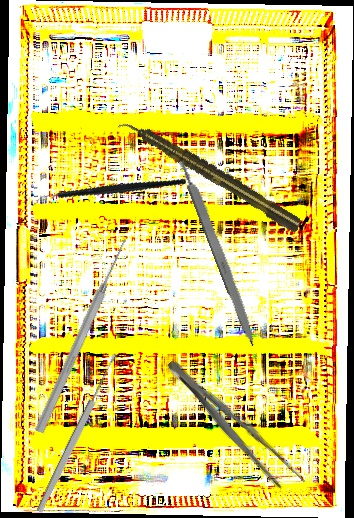Chopper: (31, 144, 187, 242)
Dressing Forceps: (159, 352, 309, 499)
Handpiece: (116, 112, 305, 235)
Pusher: (32, 237, 132, 435)
Scalpel Handle: (177, 157, 261, 348)
Surgical Spoon: (34, 352, 121, 514)
